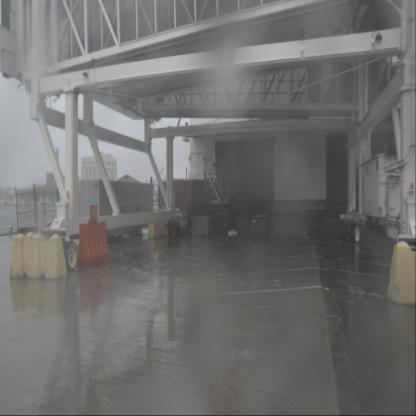movable_object-barrier: (76, 221, 110, 267)
